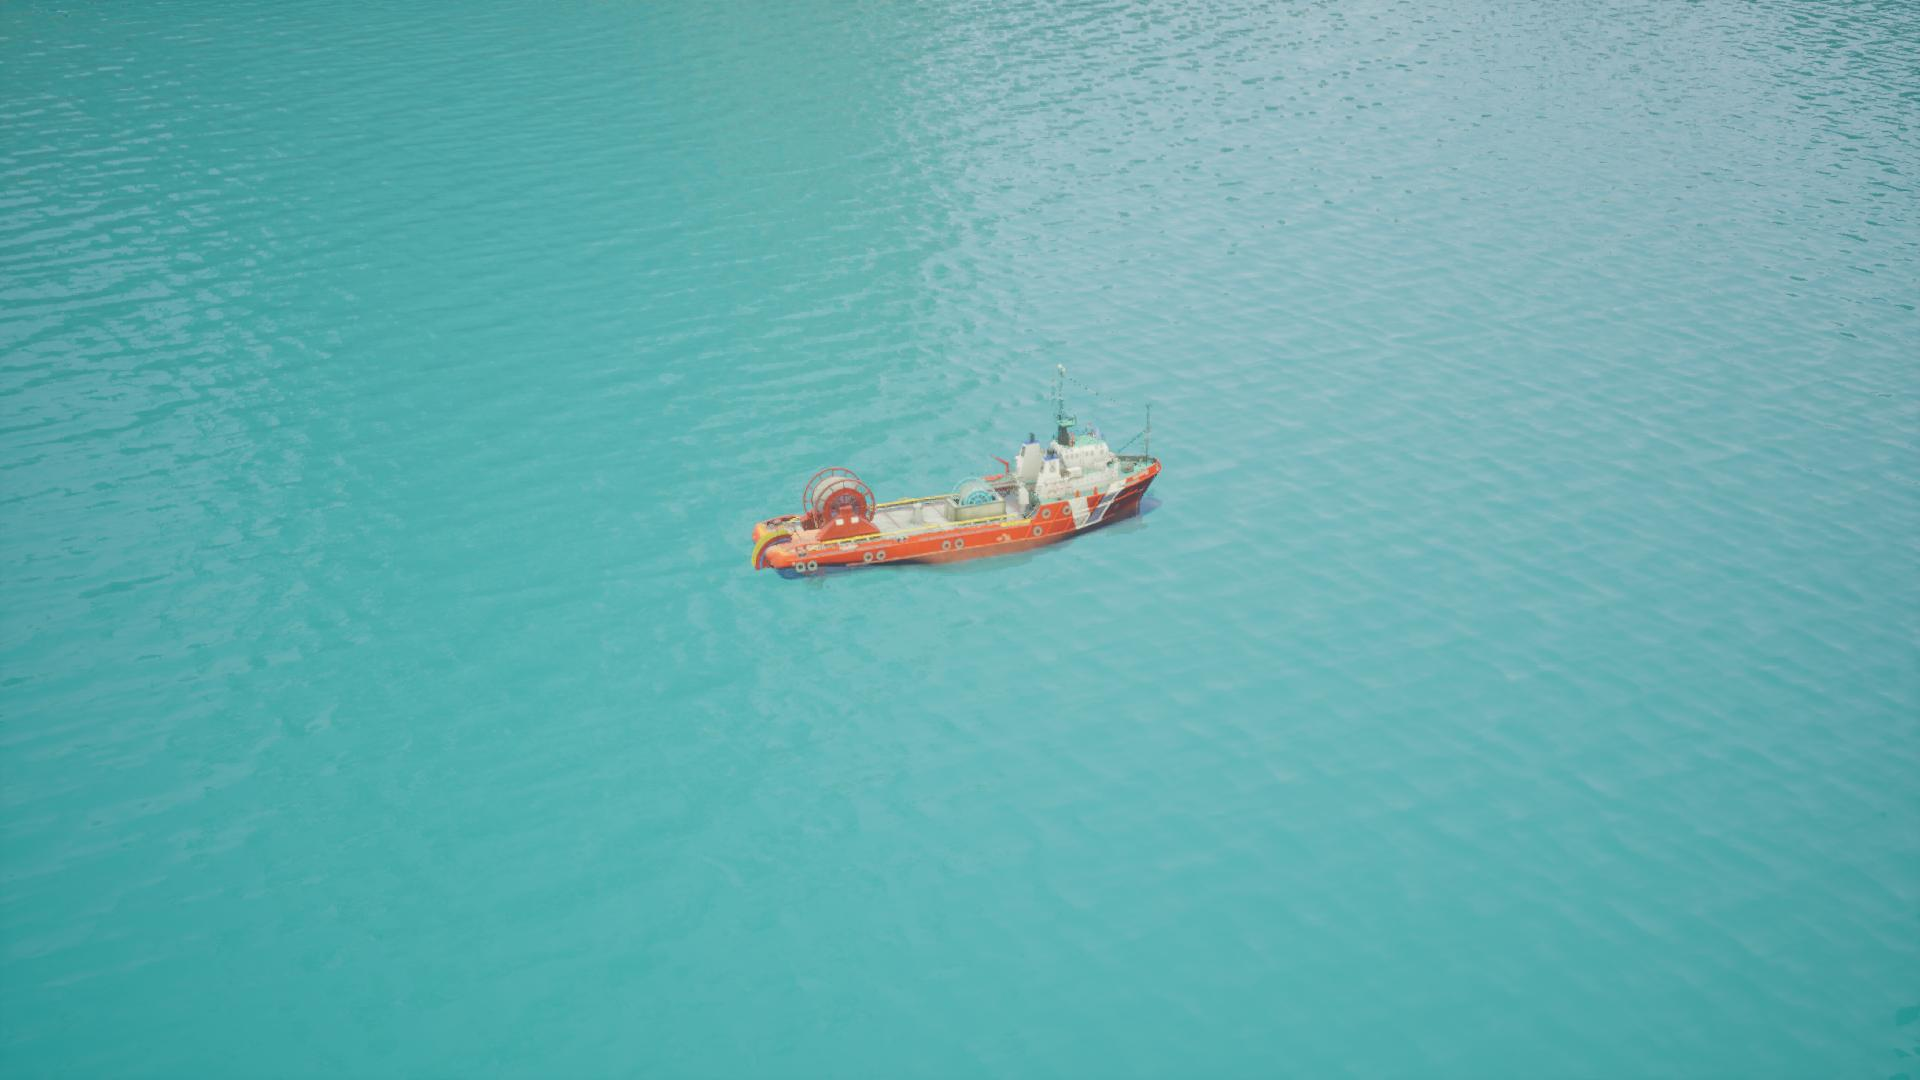Tug Boat: (752, 421, 1163, 579)
